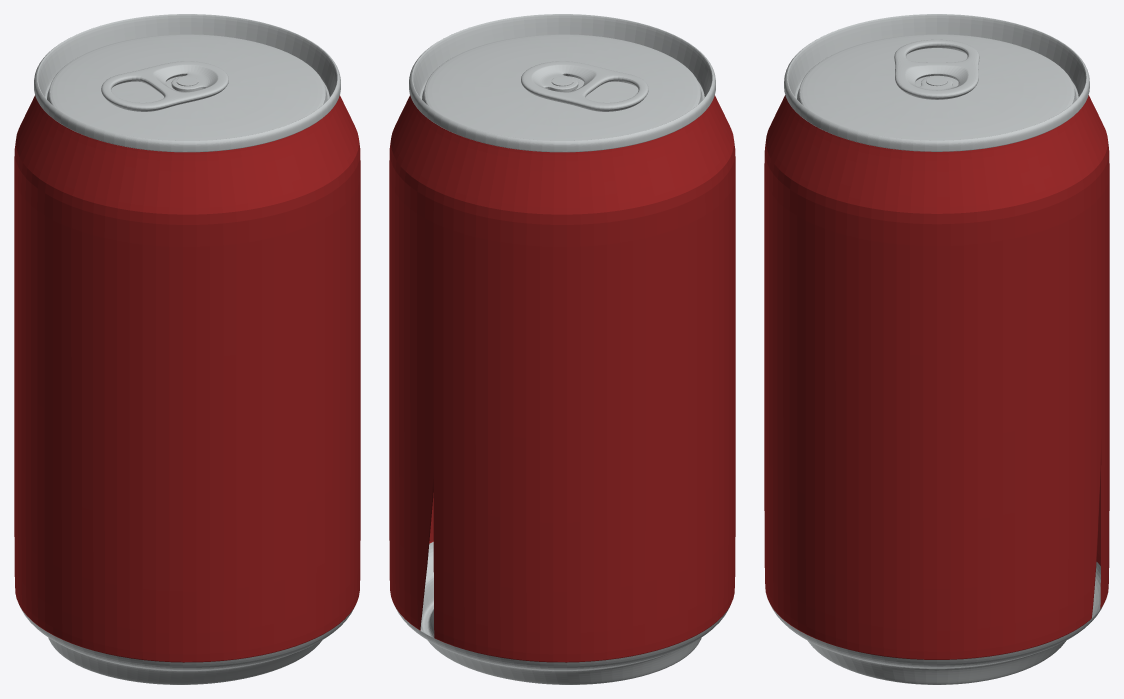
3 views of the same model, side by side, from view 1: azimuth 30°, elevation 25°; view 2: azimuth 150°, elevation 25°; view 3: azimuth 270°, elevation 25° (orthographic).
Bounding box in the file's own units: 0.0685 × 0.12 × 0.0685.
1 material, 1 textured.
